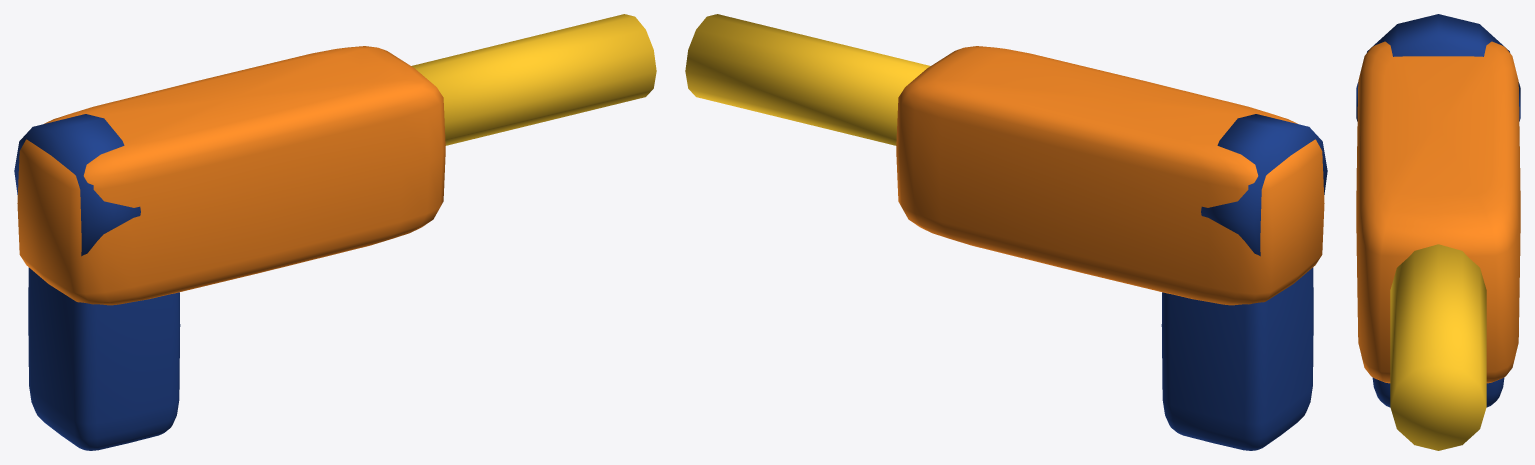
File: plunger_gun.glb
3 renders of one model, left to right at view 1: azimuth 30°, elevation 25°; view 2: azimuth 150°, elevation 25°; view 3: azimuth 270°, elevation 25°, orthographic. The views are drawn at different scales.
Parts seen in each view (by area): view 1: Body; view 2: Body; view 3: Body.
Part boxes in pixels (x1,y1,x2,y2): Body: (14, 14, 656, 450); Body: (685, 14, 1327, 450); Body: (1356, 14, 1520, 450).
Bounding box in the file's own units: 0.56 × 0.28 × 0.12.
